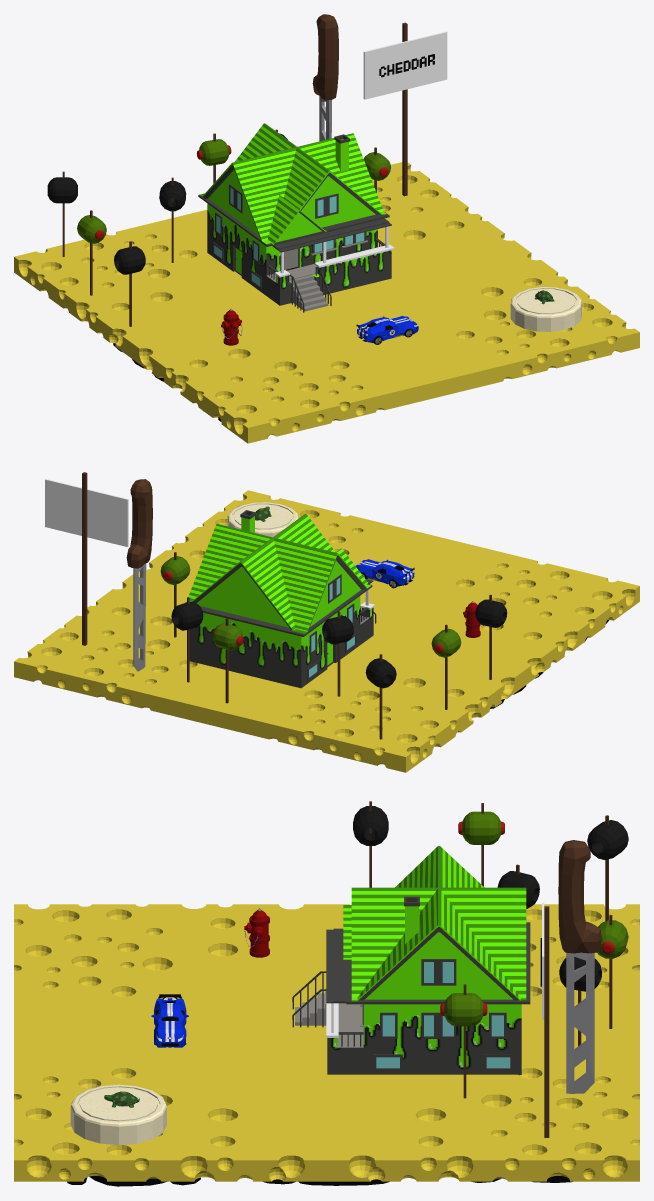
3 views of the same model, one above another, from view 1: azimuth 30°, elevation 25°; view 2: azimuth 150°, elevation 25°; view 3: azimuth 270°, elevation 25° (orthographic). The views are drawn at different scales.
Parts seen in each view (by area): view 1: Cube.022, Cube.754, Cube.023, Cylinder.016, Cube.024, VEHICLES_RACING_CAR, Sphere.017, Sphere.016, Sphere.020, Sphere.018, Sphere.022, Sphere.019; view 2: Cube.022, Cube.754, Cube.023, Cube.024, Cylinder.016, VEHICLES_RACING_CAR, Sphere.020, Sphere.016, Sphere.022, Sphere.017, Sphere.021, Sphere.018 (+2 smaller); view 3: Cube.022, Cube.754, Cube.024, Cylinder.016, Cube.023, VEHICLES_RACING_CAR, Sphere.019, Sphere.016, Sphere.018, Curve.014, Sphere.017, Sphere.022 (+3 smaller).
Part boxes in pixels (x1=…): Cube.022: x1=14, y1=162, x2=639, y2=443; Cube.754: x1=198, y1=123, x2=394, y2=312; Cube.023: x1=363, y1=22, x2=447, y2=196; Cylinder.016: x1=510, y1=287, x2=581, y2=331; Cube.024: x1=312, y1=14, x2=338, y2=141; VEHICLES_RACING_CAR: x1=356, y1=315, x2=418, y2=344; Sphere.017: x1=114, y1=241, x2=145, y2=326; Sphere.016: x1=47, y1=171, x2=77, y2=256; Sphere.020: x1=159, y1=177, x2=186, y2=262; Sphere.018: x1=77, y1=210, x2=106, y2=295; Sphere.022: x1=196, y1=133, x2=231, y2=183; Sphere.019: x1=364, y1=147, x2=390, y2=192; Cube.022: x1=14, y1=490, x2=639, y2=772; Cube.754: x1=185, y1=510, x2=376, y2=688; Cube.023: x1=45, y1=472, x2=128, y2=645; Cube.024: x1=126, y1=479, x2=152, y2=671; Cylinder.016: x1=227, y1=502, x2=298, y2=537; VEHICLES_RACING_CAR: x1=356, y1=559, x2=414, y2=588; Sphere.020: x1=322, y1=611, x2=353, y2=696; Sphere.016: x1=365, y1=654, x2=396, y2=739; Sphere.022: x1=212, y1=618, x2=243, y2=703; Sphere.017: x1=475, y1=594, x2=507, y2=679; Sphere.021: x1=171, y1=597, x2=203, y2=682; Sphere.018: x1=431, y1=624, x2=461, y2=709; Cube.022: x1=14, y1=904, x2=639, y2=1181; Cube.754: x1=292, y1=846, x2=530, y2=1074; Cube.024: x1=558, y1=840, x2=602, y2=1093; Cylinder.016: x1=70, y1=1084, x2=166, y2=1145; Cube.023: x1=540, y1=902, x2=549, y2=1137; VEHICLES_RACING_CAR: x1=151, y1=994, x2=188, y2=1047; Sphere.019: x1=440, y1=984, x2=487, y2=1098; Sphere.016: x1=587, y1=815, x2=628, y2=920; Sphere.018: x1=458, y1=803, x2=504, y2=886; Curve.014: x1=67, y1=1176, x2=572, y2=1186; Sphere.017: x1=353, y1=801, x2=388, y2=887; Sphere.022: x1=597, y1=915, x2=628, y2=1028.
Bounding box in the file's own units: 3917 × 1980 × 4000.
Materials: 37 (4 with a texture image).
